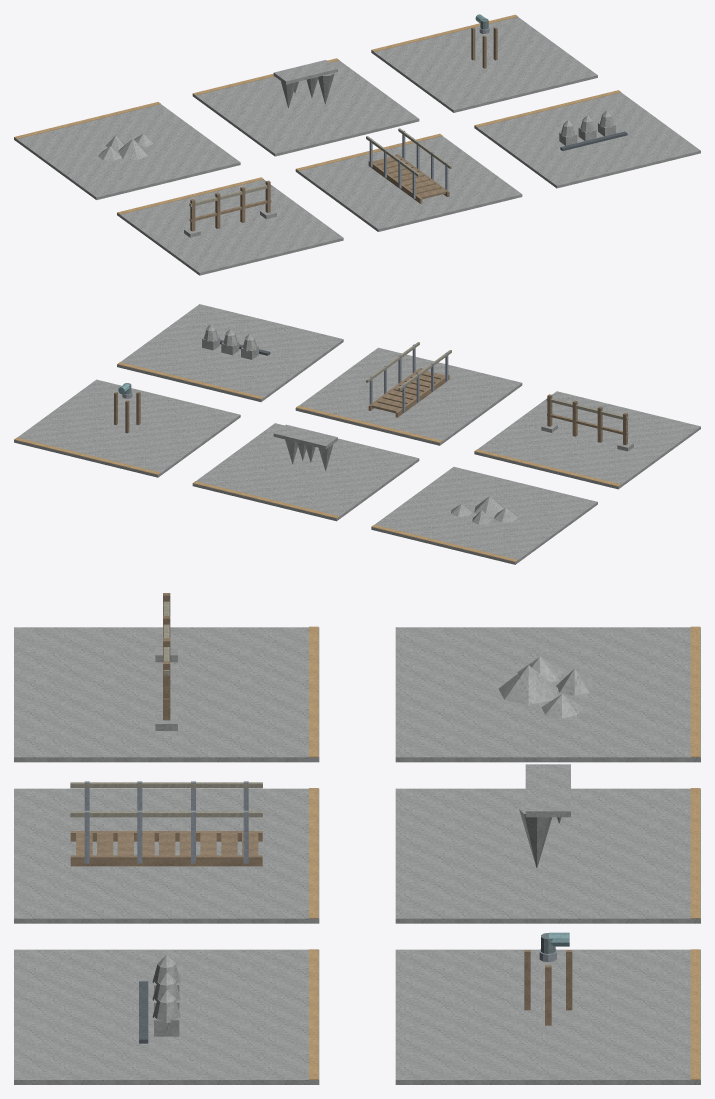
Rendered from level_blockout_kit_wld_03_p03.glb.
3 views of the same model, one above another, from view 1: azimuth 30°, elevation 25°; view 2: azimuth 150°, elevation 25°; view 3: azimuth 270°, elevation 25° (orthographic). The views are drawn at different scales.
Parts seen in each view (by area): view 1: level_blockout_kit_wld_03_p03; view 2: level_blockout_kit_wld_03_p03; view 3: level_blockout_kit_wld_03_p03.
Part boxes in pixels (bbox=[...]): level_blockout_kit_wld_03_p03: bbox=[14, 14, 700, 275]; level_blockout_kit_wld_03_p03: bbox=[14, 304, 700, 564]; level_blockout_kit_wld_03_p03: bbox=[14, 593, 700, 1084].
Bounding box in the file's own units: 19.65 × 1.74 × 12.6.
Materials: 8 (8 with a texture image).
